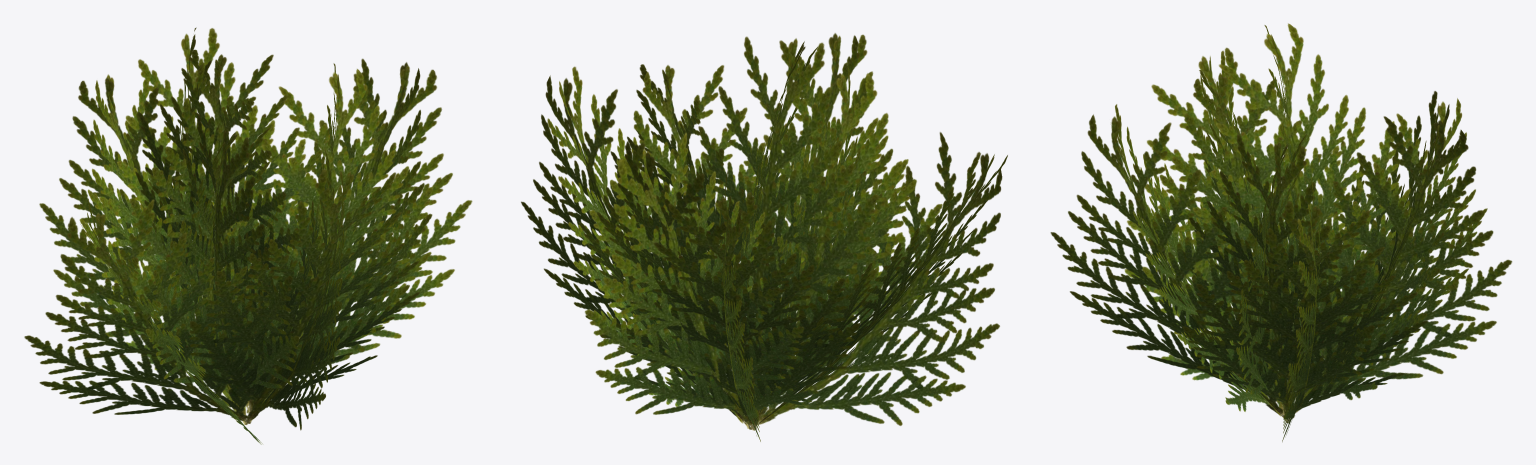
File: shrub.glb
The picture shows the model from 3 angles, left to right: view 1: azimuth 30°, elevation 25°; view 2: azimuth 150°, elevation 25°; view 3: azimuth 270°, elevation 25°; orthographic projection. The views are drawn at different scales.
Parts seen in each view (by area): view 1: Object_4; view 2: Object_4; view 3: Object_4.
Boxes of the visible parts, bbox=[...] form: Object_4: bbox=[24, 27, 472, 444]; Object_4: bbox=[521, 33, 1007, 441]; Object_4: bbox=[1050, 23, 1512, 441].
Size of the model in its own units: 0.5778 by 0.473 by 0.5205.
Materials: 1 (1 with a texture image).
